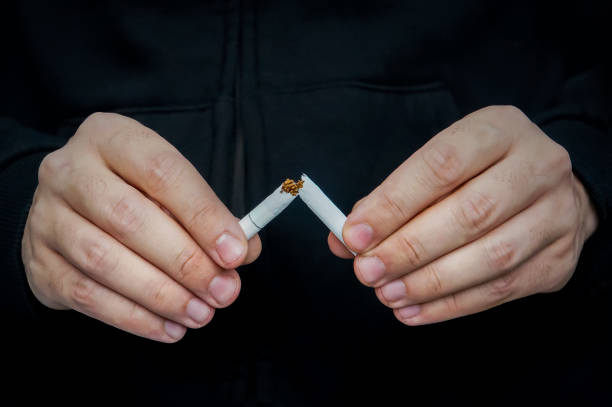cigarette: (297, 173, 359, 257), (237, 177, 298, 241)
